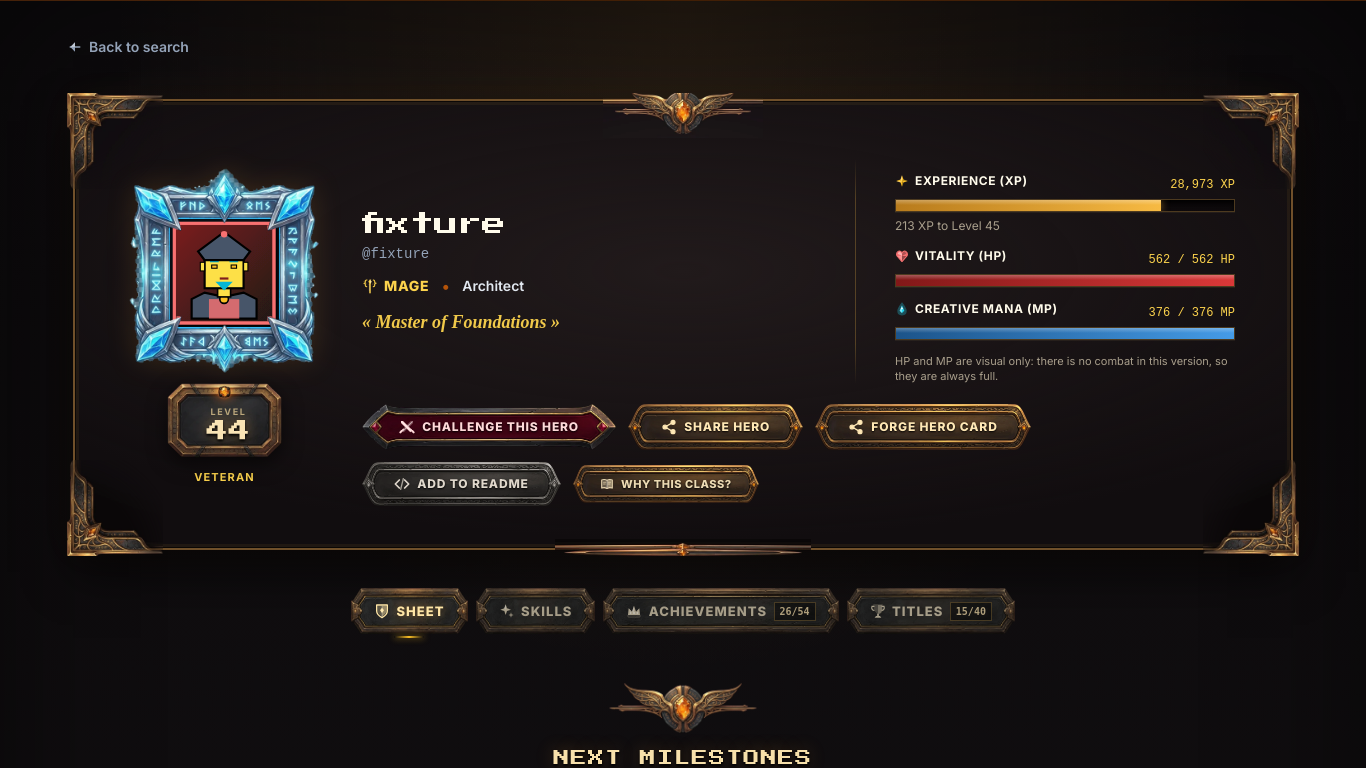
Test case: CharacterPageClient: V2 product presentation › switches the new product copy to English
Click the button "Why this class?".
click(666, 484)  # box [573, 465, 759, 503]
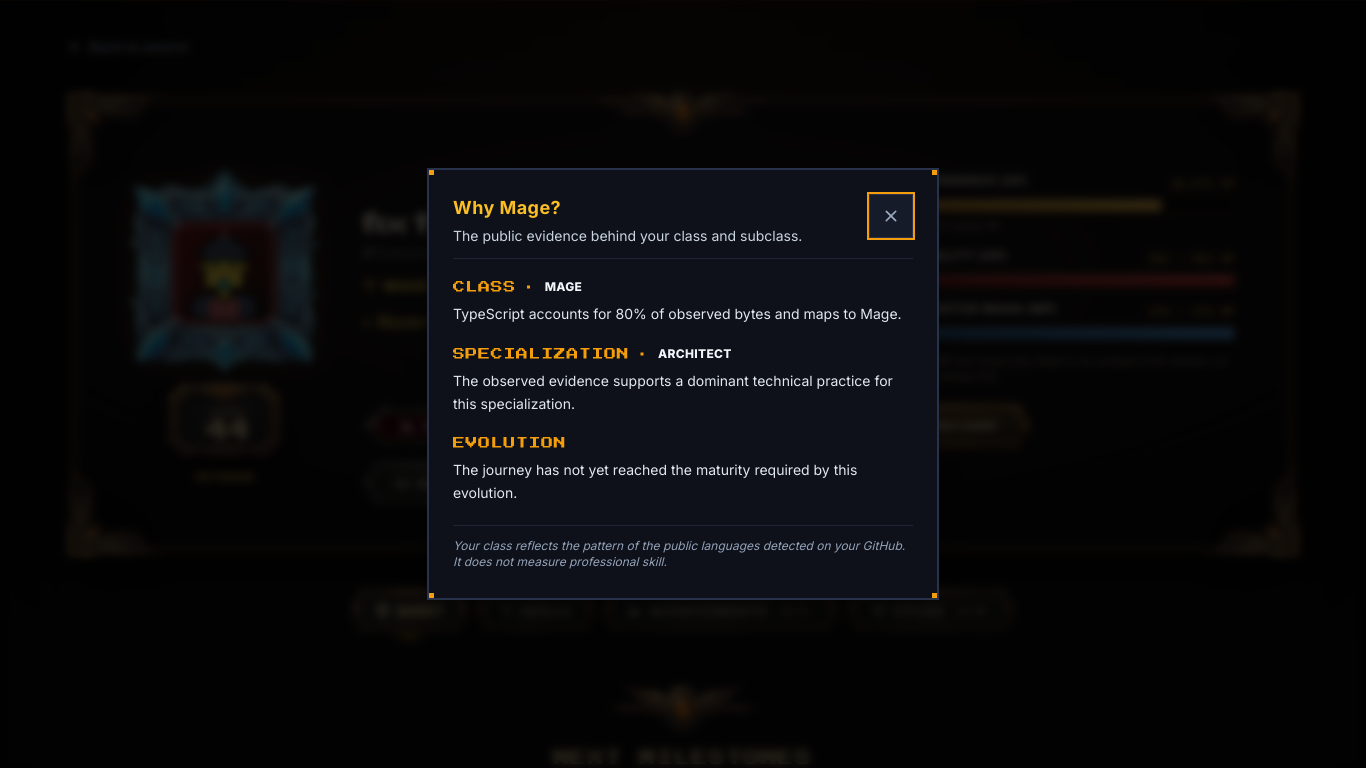
Expected: the heading "Specialization · Architect" is shown, [453, 346, 732, 361]
Expected: the heading "Evolution" is shown, [453, 437, 566, 449]
